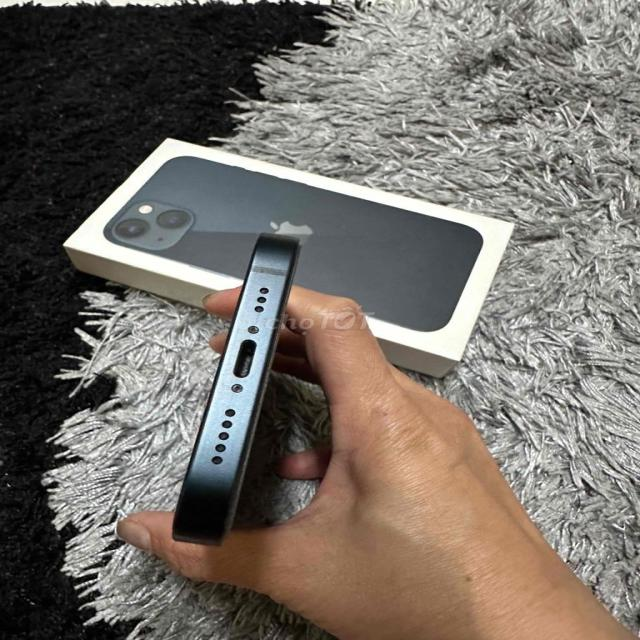gen_12_13: (160, 218, 313, 574)
